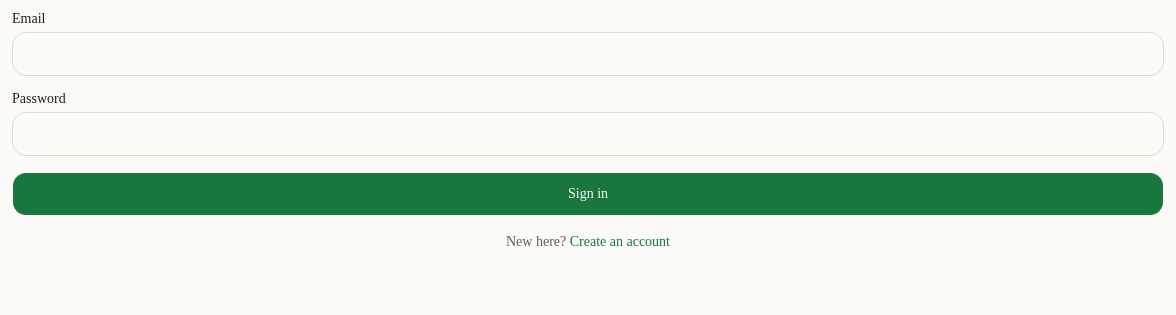
Test: LoginForm › says so, and stays put, when the credentials are wrong
Type "a@b.test" into the field labelled "Email" at coordinates (588, 54), box [12,32,1164,76]
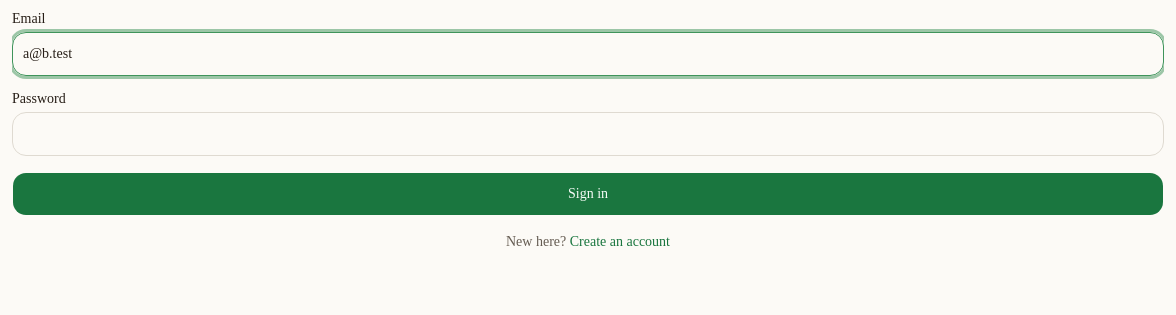
Type "wrong" into the password field labelled "Password" at coordinates (588, 134), box [12,112,1164,156]
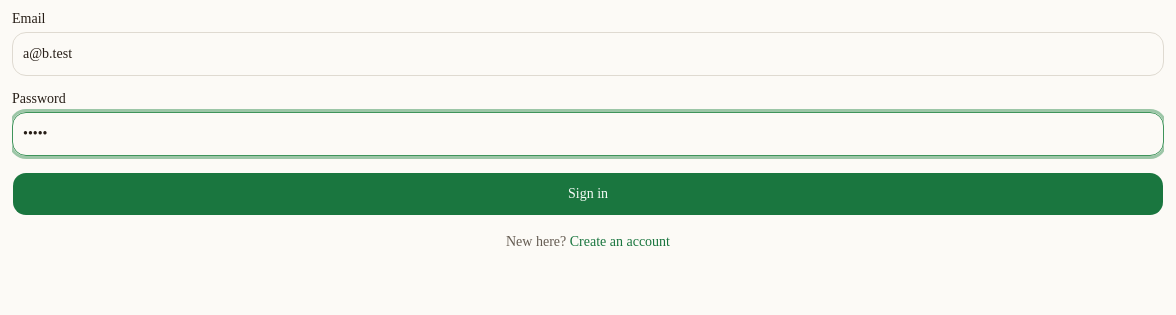
Click the button "Sign in" at coordinates (588, 194), box [12,172,1164,216]
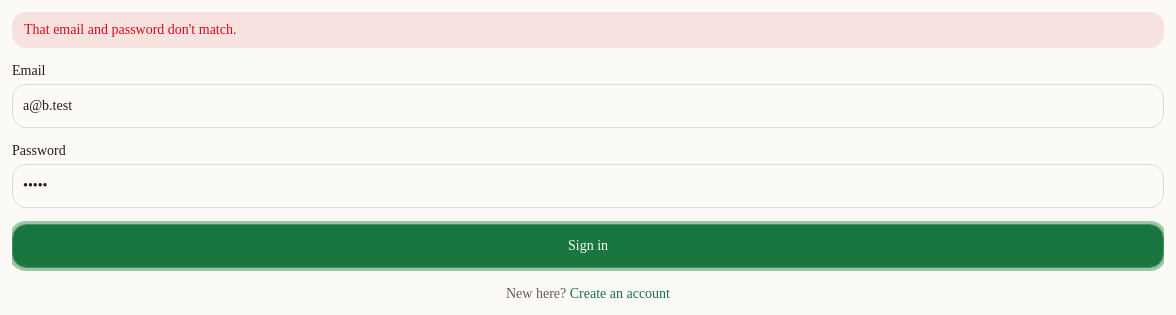
Check: the button "Sign in" is enabled, box [12,224,1164,268]
Check: the message reads "That email and password don't match.", box [24,22,236,37]
